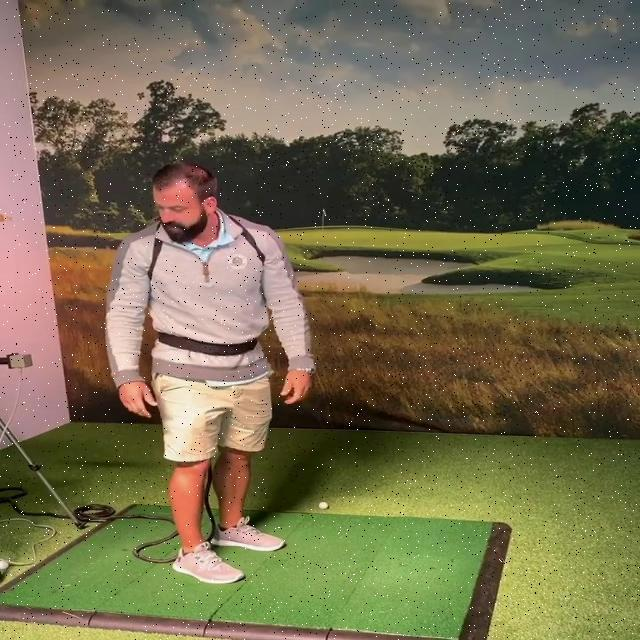GolfBall: (318, 501, 328, 509)
